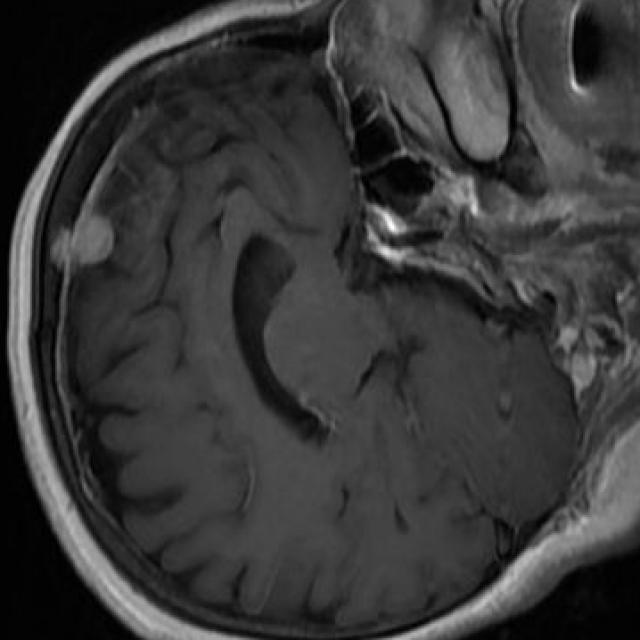meningioma: (52, 210, 112, 278)
